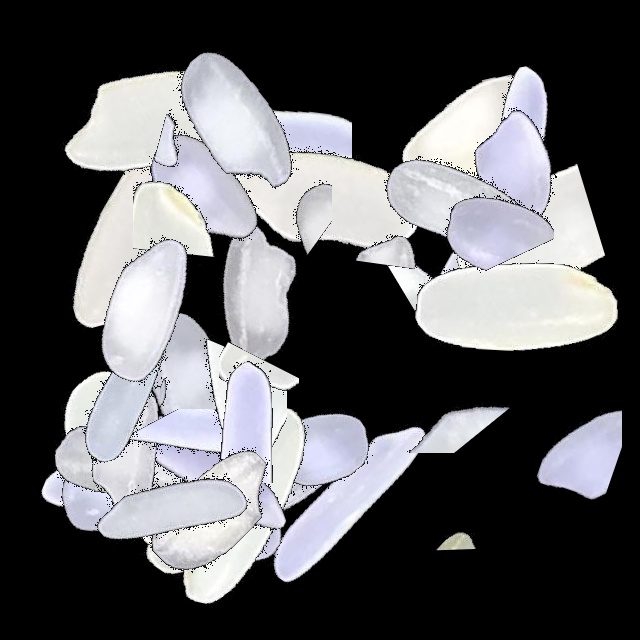Broken: (139, 477, 389, 640), (390, 157, 640, 318), (119, 327, 369, 483), (197, 57, 352, 307), (402, 65, 554, 315), (112, 411, 362, 560), (475, 309, 622, 559), (68, 409, 318, 545), (162, 289, 287, 539), (437, 155, 554, 405), (307, 339, 557, 453), (386, 123, 489, 373), (231, 79, 332, 329), (133, 82, 225, 332), (400, 381, 488, 631), (347, 96, 434, 346), (106, 439, 356, 525), (81, 87, 331, 171), (121, 164, 203, 414), (179, 363, 260, 613), (160, 271, 241, 521), (219, 277, 299, 527)
Full: (94, 380, 344, 630), (221, 377, 471, 627), (338, 149, 588, 399), (146, 358, 396, 608), (134, 167, 384, 417), (194, 325, 444, 575), (351, 14, 601, 264), (0, 335, 250, 585), (8, 108, 258, 358), (0, 337, 250, 587), (202, 71, 452, 321), (28, 0, 278, 250), (57, 256, 307, 506), (0, 366, 250, 616), (78, 66, 328, 316), (0, 339, 250, 589), (390, 31, 640, 281), (107, 376, 357, 626), (390, 46, 640, 296), (84, 350, 334, 600), (0, 328, 250, 578), (331, 81, 581, 331), (0, 276, 250, 526), (110, 0, 360, 250), (390, 180, 640, 430), (21, 182, 271, 432), (92, 387, 342, 637), (47, 390, 297, 640)
